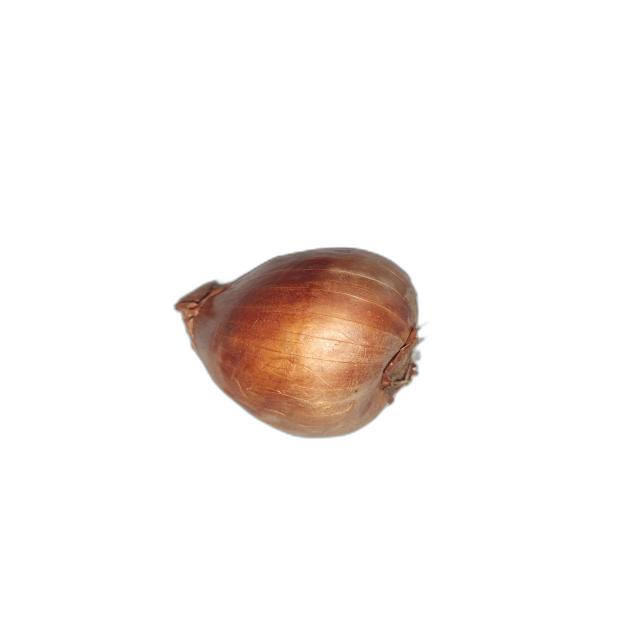onion: (171, 247, 422, 440)
